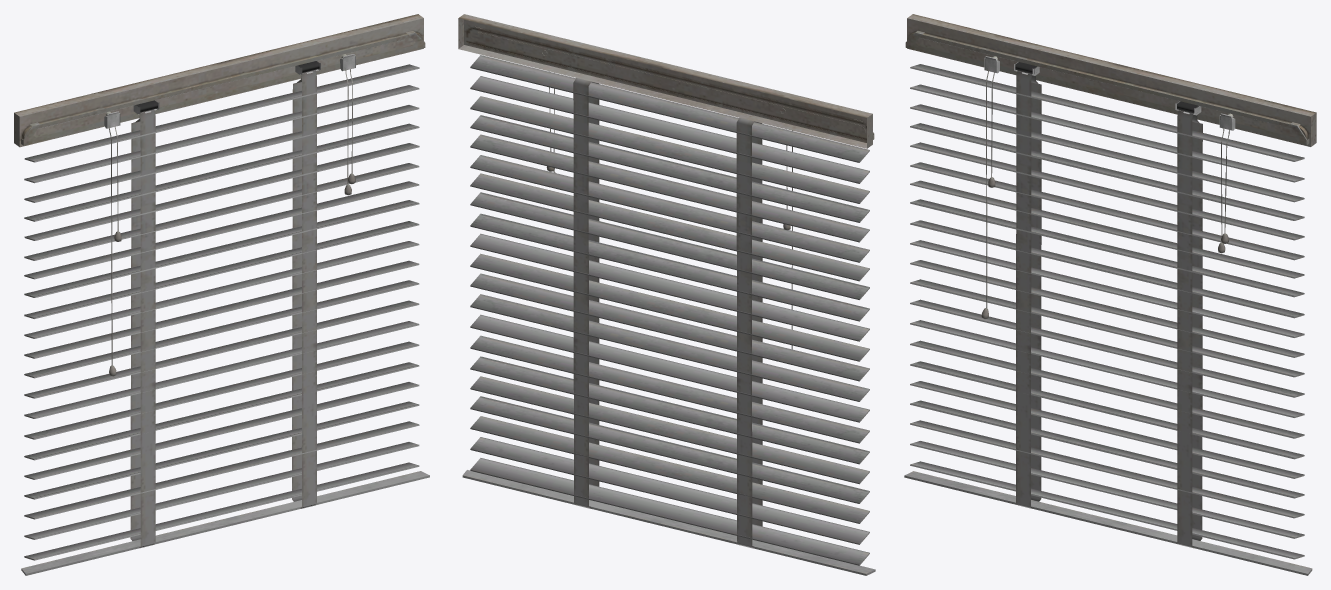
The model's file is 192_OfficeBlind.fbx.
3 renders of one model, left to right at view 1: azimuth 30°, elevation 25°; view 2: azimuth 150°, elevation 25°; view 3: azimuth 330°, elevation 25°, orthographic.
Parts seen in each view (by area): view 1: LOD_1_Group_0_Sub_1__sm30_192_OfficeBlind03A_A_Mat; view 2: LOD_1_Group_0_Sub_1__sm30_192_OfficeBlind03A_A_Mat; view 3: LOD_1_Group_0_Sub_1__sm30_192_OfficeBlind03A_A_Mat.
Part boxes in pixels (<box>): LOD_1_Group_0_Sub_1__sm30_192_OfficeBlind03A_A_Mat: <box>14,14,429,575</box>; LOD_1_Group_0_Sub_1__sm30_192_OfficeBlind03A_A_Mat: <box>458,14,875,575</box>; LOD_1_Group_0_Sub_1__sm30_192_OfficeBlind03A_A_Mat: <box>904,14,1316,575</box>.
Bounding box in the file's own units: 1.41 × 1.52 × 0.0907.
